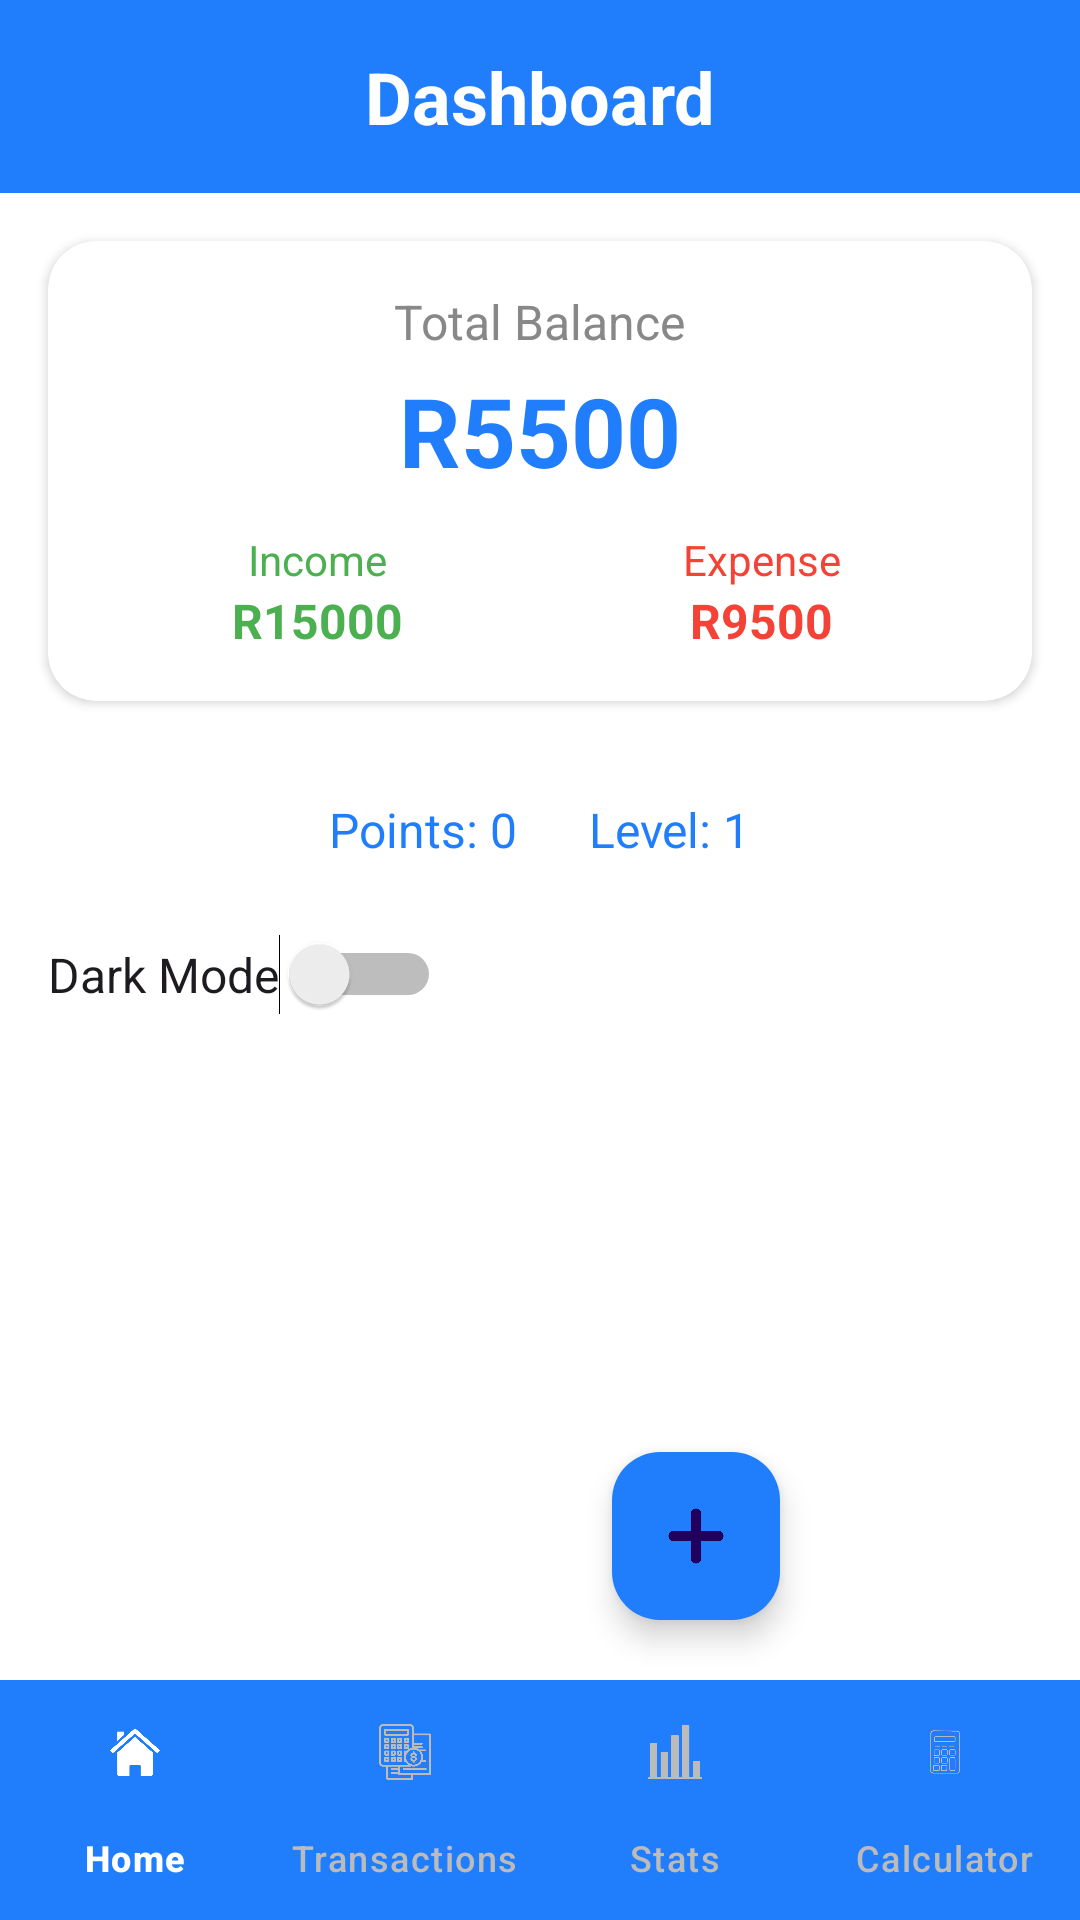

Icons on this 1080px x 1920px Android screen, each with its box as (x1, y1, x2, y2):
Add new transaction: (612, 1452, 780, 1620)
